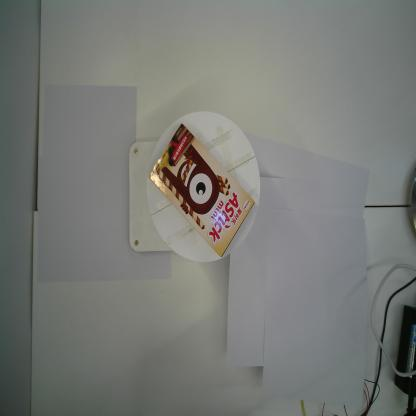Dessert: (148, 123, 255, 258)
